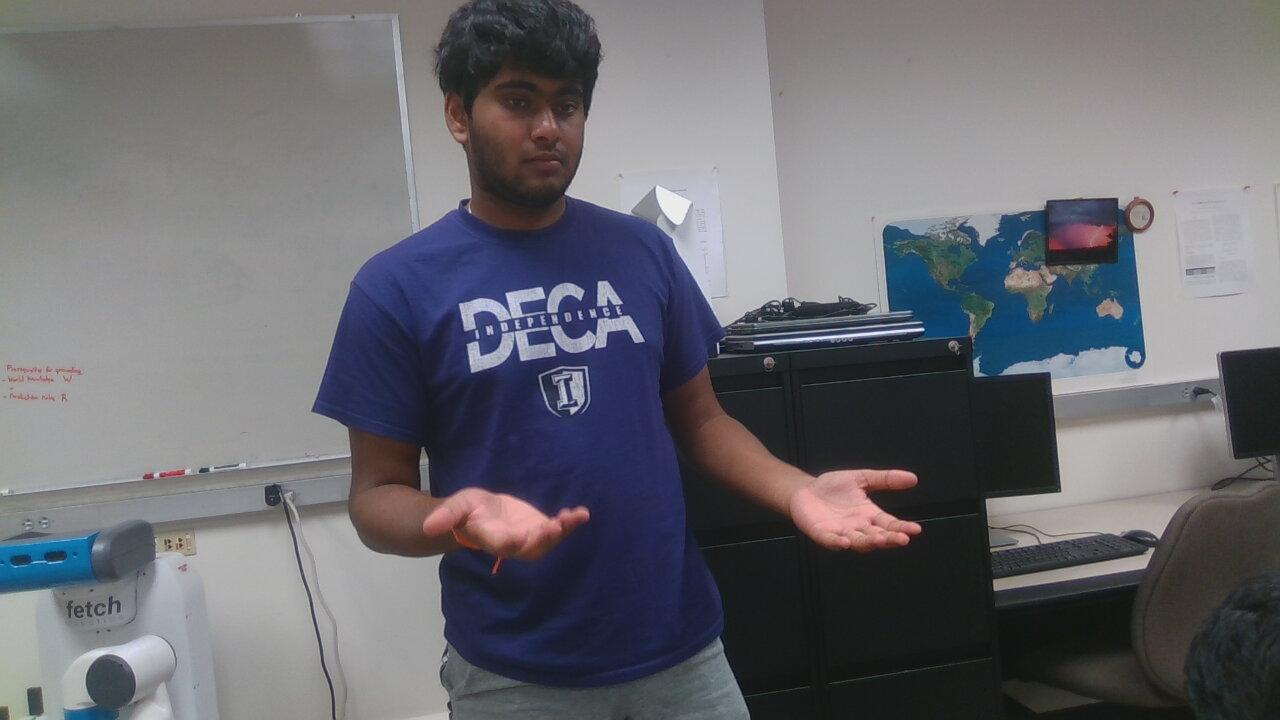hands: (426, 472, 585, 579), (783, 452, 939, 558)
